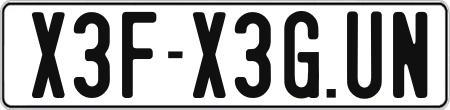3: (73, 10, 112, 99), (234, 12, 271, 99)
F: (119, 10, 158, 100)
G: (283, 8, 318, 101)
N: (390, 11, 425, 102)
U: (345, 11, 383, 100)
X: (30, 12, 67, 102), (190, 9, 227, 96)
